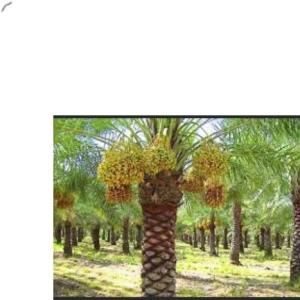palm tree: (222, 117, 299, 286)
